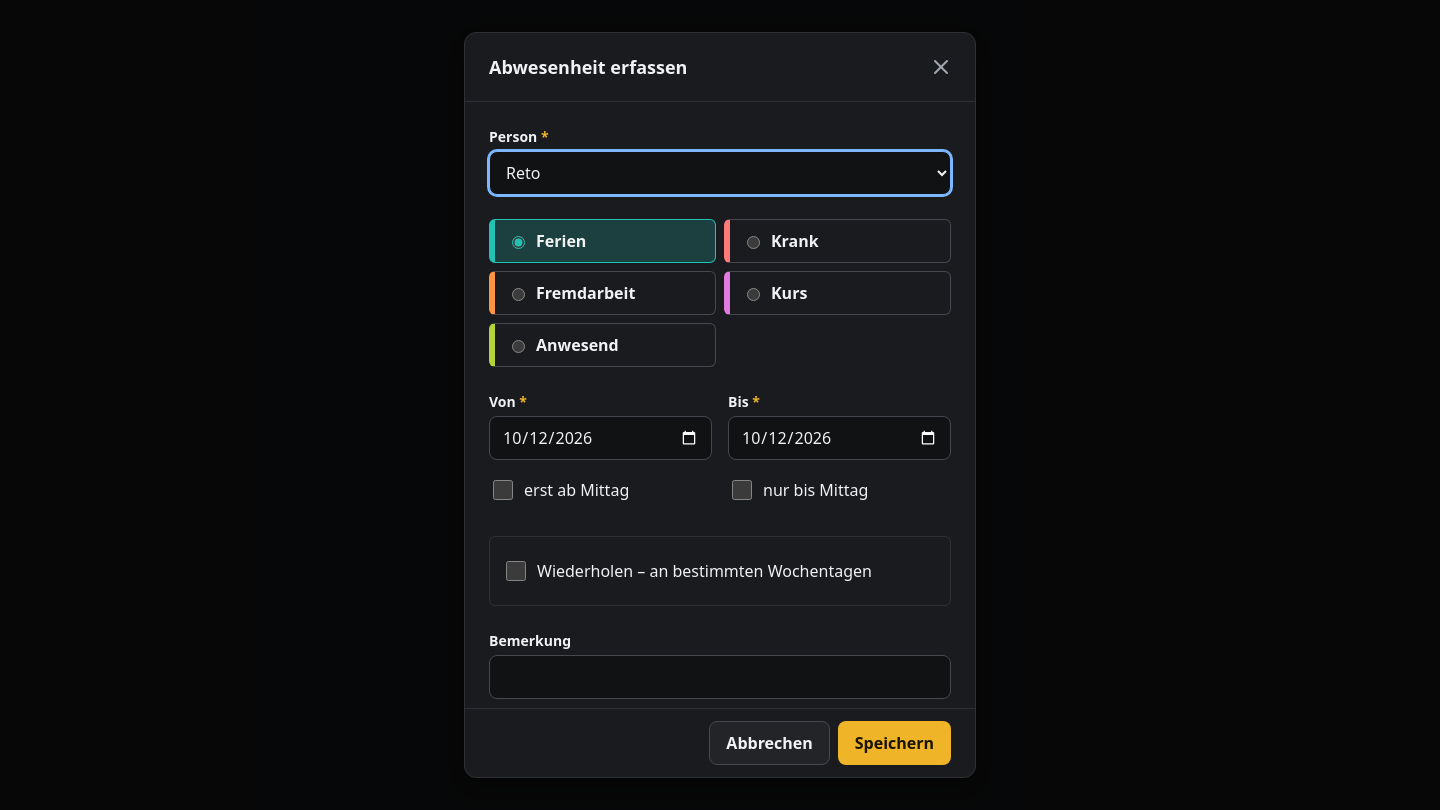
Test: AbsenceDialog › a start after the end moves the end along
The width and height of the screenshot is (1440, 810).
Type "2026-10-20" into the date field labelled "Von *" at x=600, y=438, box [489,416,712,460]
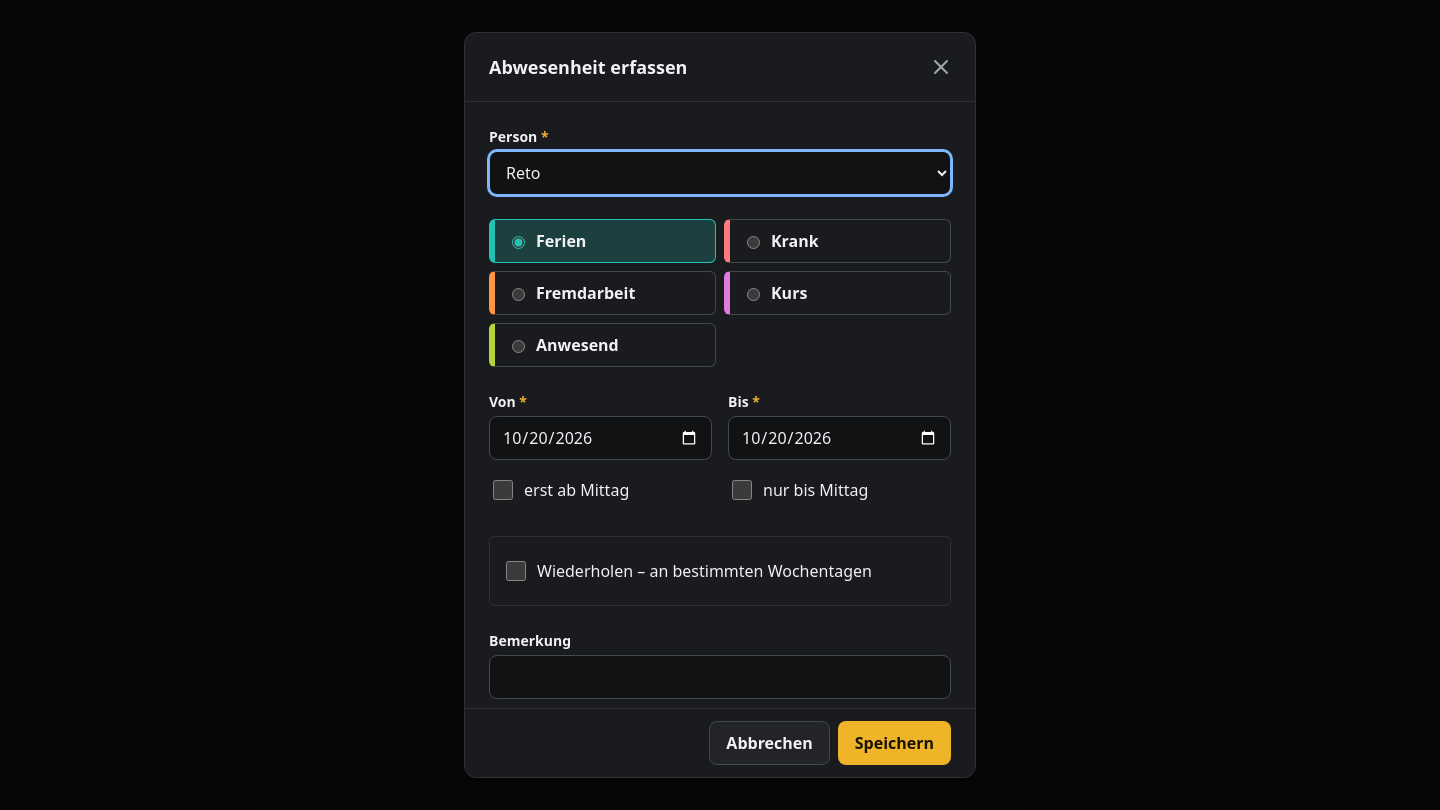
Check: the date field labelled "Bis *" holds "2026-10-20", box [728,416,951,460]
